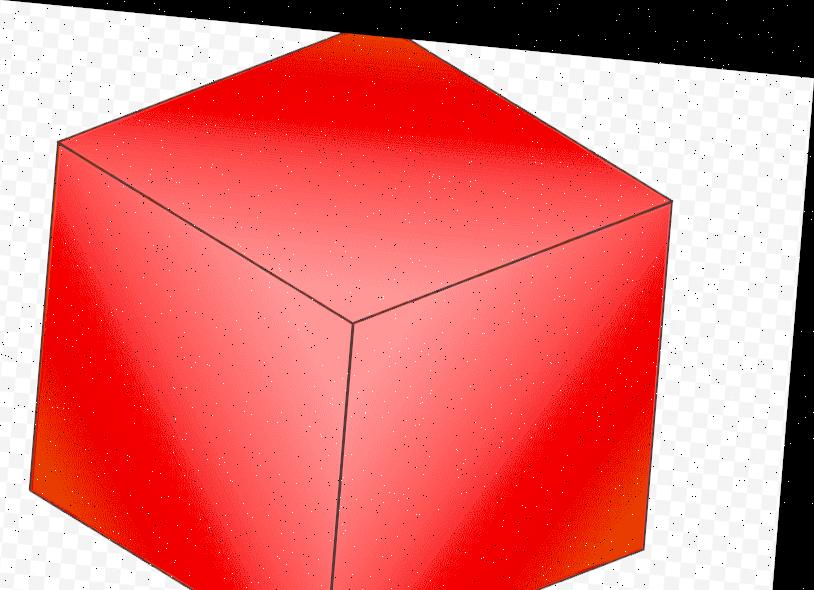cube: (30, 5, 691, 590)
